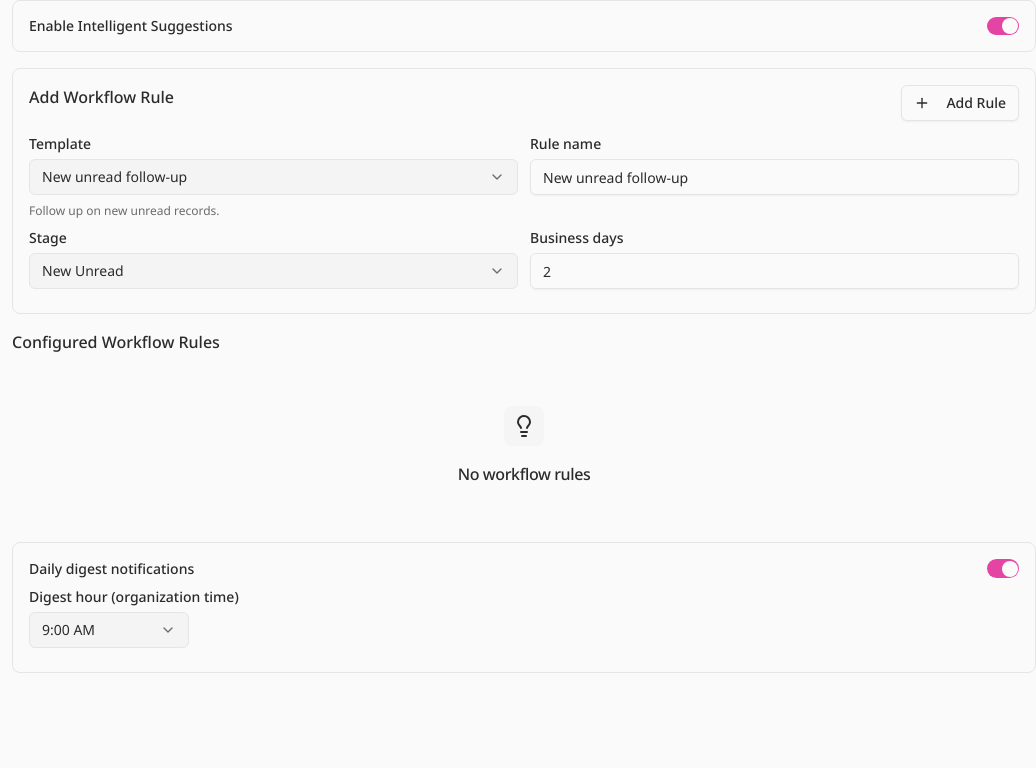
Test: IntelligentSuggestionsSection › lists stages in pipeline order, not alphabetically
This screenshot has width=1036, height=768.
Click the dropdown named "Stage": click(83, 271) x1=29 y1=253 x2=518 y2=289
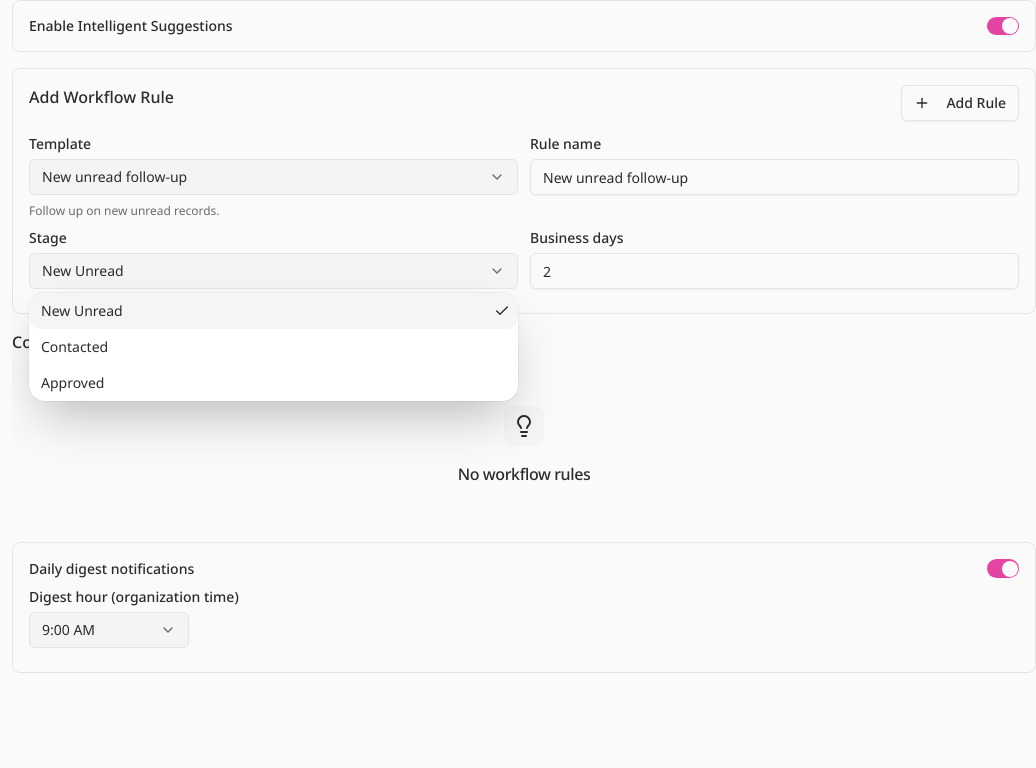
Now the options read "New Unread", "Contacted", "Approved", in this order, box x1=29 y1=293 x2=518 y2=329; x1=41 y1=337 x2=108 y2=356; x1=41 y1=373 x2=104 y2=392
